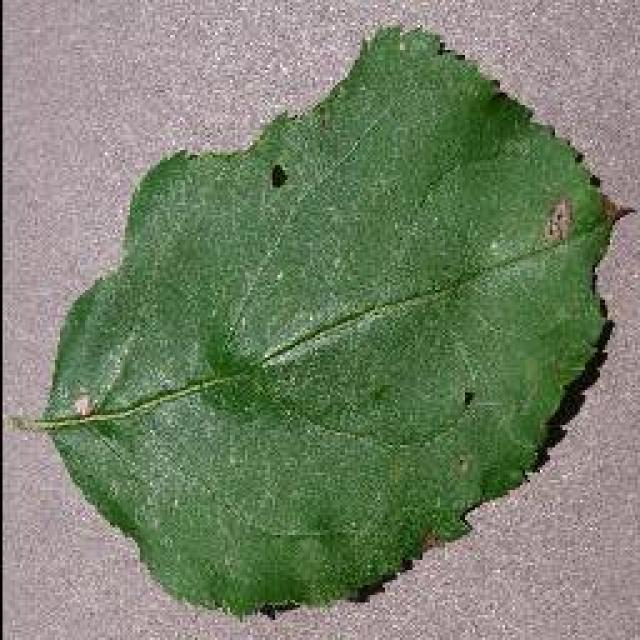Black_rot: (22, 20, 632, 620)
